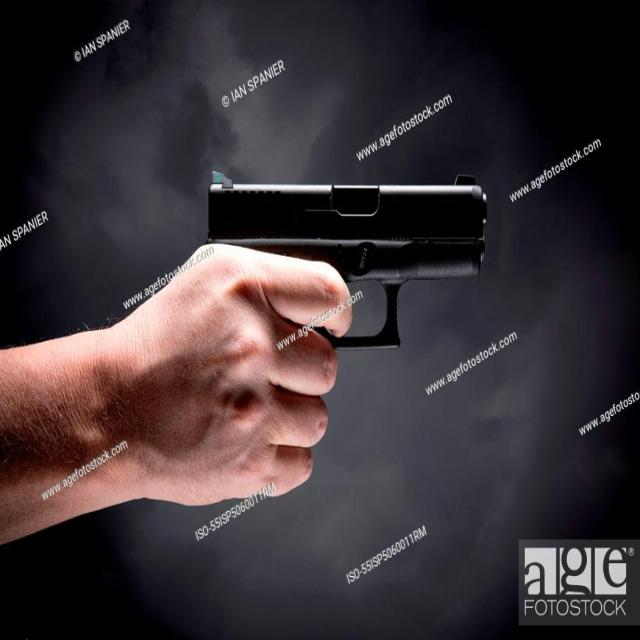HandGun: (206, 172, 488, 350)
